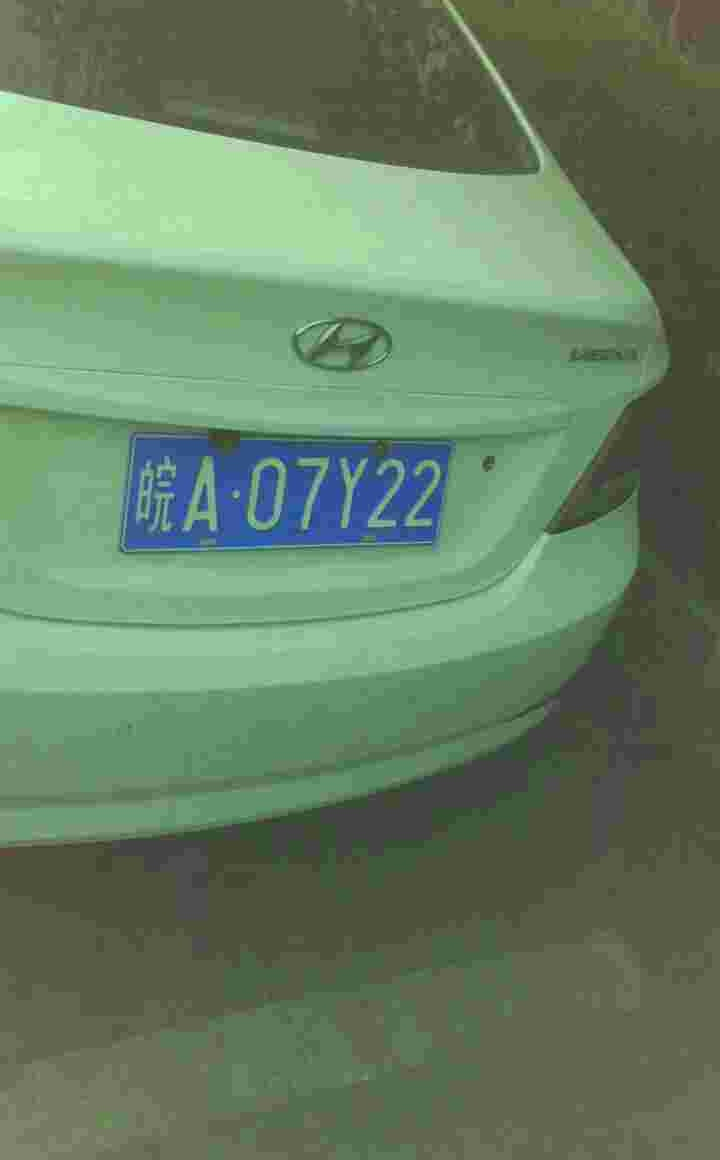license_plate: (126, 433, 447, 560)
